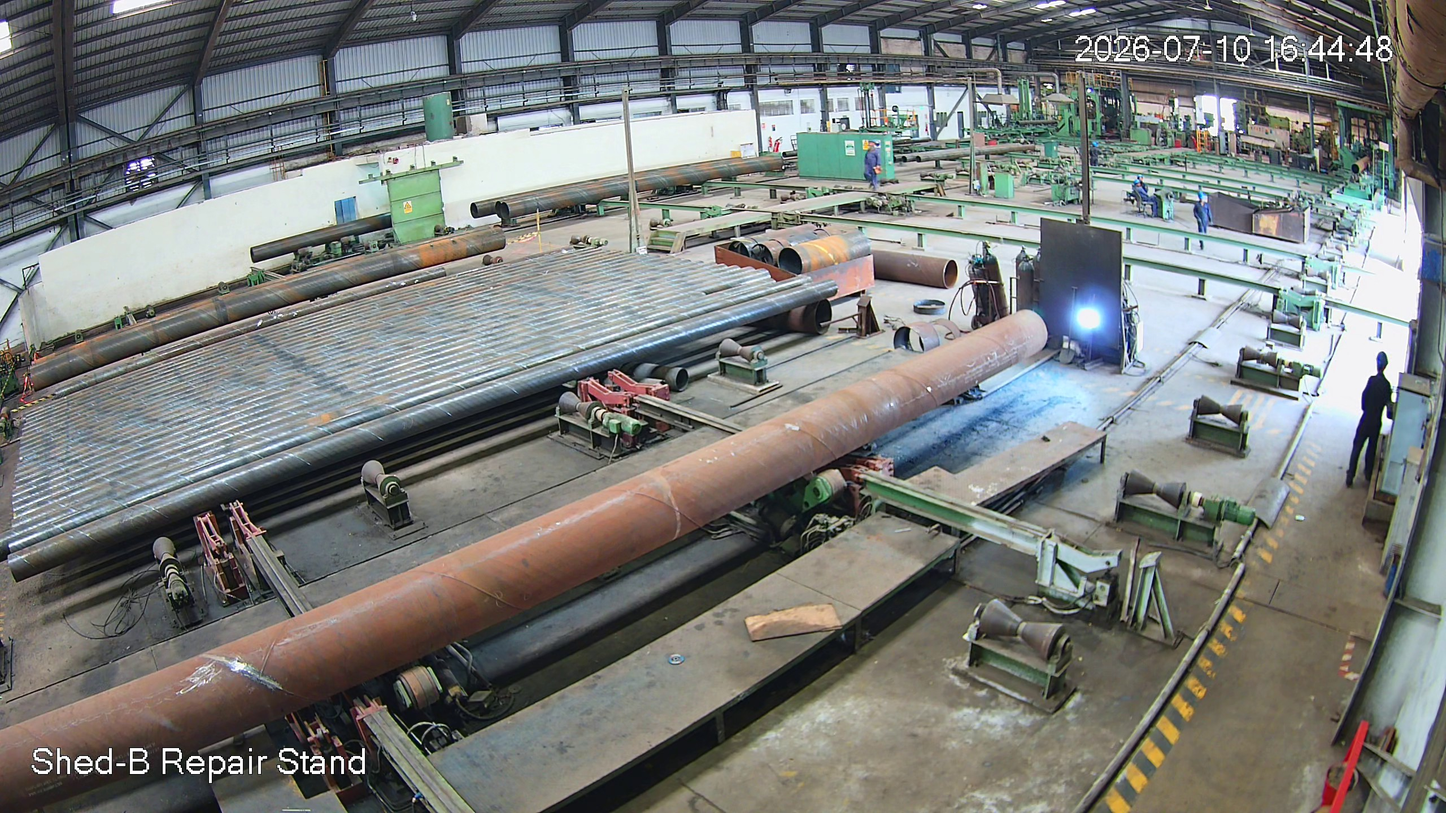Helmet: (1370, 347, 1394, 372)
Person: (1345, 347, 1400, 506)
